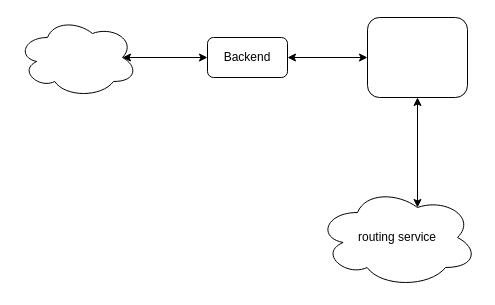
The diagram is 495 pixels wide and 305 high, and some of its shapes have lost their labels. Each missing label, with the centre of its shape:
"Geodata Processing Service" belongs at point 417,57.
"Mobile Users" belongs at point 77,57.
